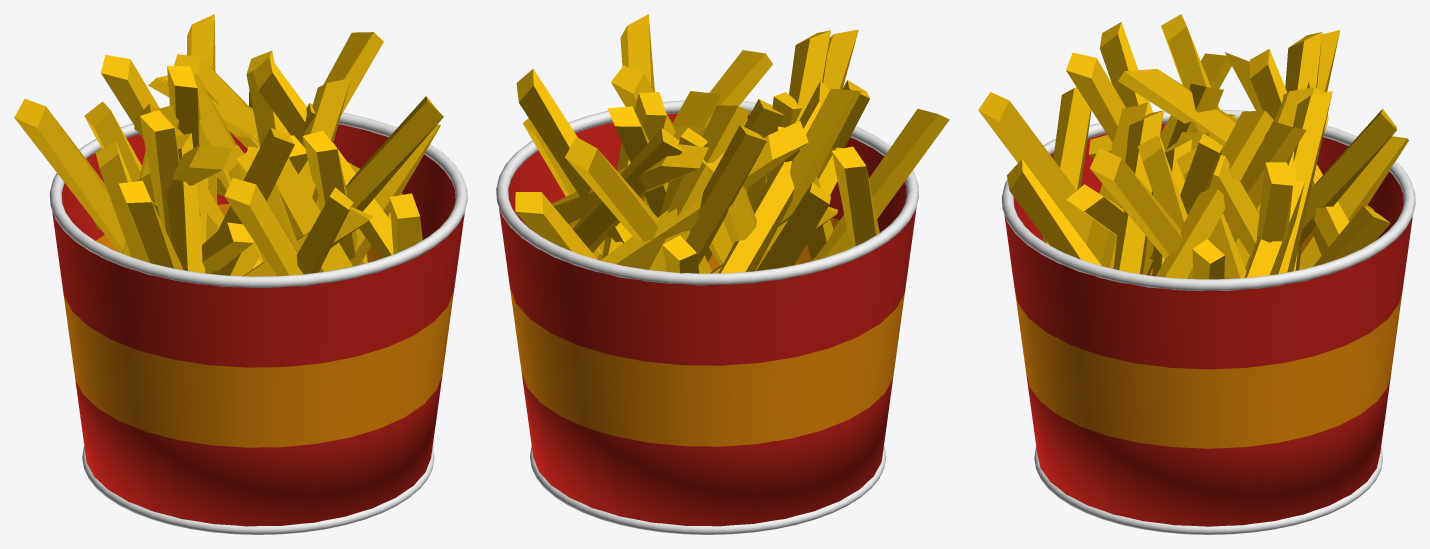
The model's file is Fries.fbx.
3 views of the same model, side by side, from view 1: azimuth 30°, elevation 25°; view 2: azimuth 150°, elevation 25°; view 3: azimuth 270°, elevation 25° (orthographic). The views are drawn at different scales.
Visible parts, largest first — view 1: Torus.004, Cube.021; view 2: Torus.004, Cube.021; view 3: Torus.004, Cube.021.
Part boxes in pixels (x1=…): Torus.004: x1=49, y1=105, x2=467, y2=534; Cube.021: x1=14, y1=14, x2=443, y2=276; Torus.004: x1=496, y1=100, x2=918, y2=534; Cube.021: x1=515, y1=14, x2=949, y2=273; Torus.004: x1=1001, y1=109, x2=1415, y2=534; Cube.021: x1=978, y1=14, x2=1408, y2=279.
Bounding box in the file's own units: 0.2627 × 0.2654 × 0.2734.
Materials: 1 (1 with a texture image).
